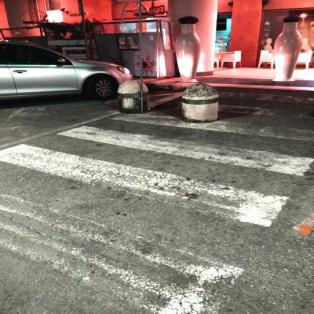Paso de Cebra: (0, 124, 313, 229)
